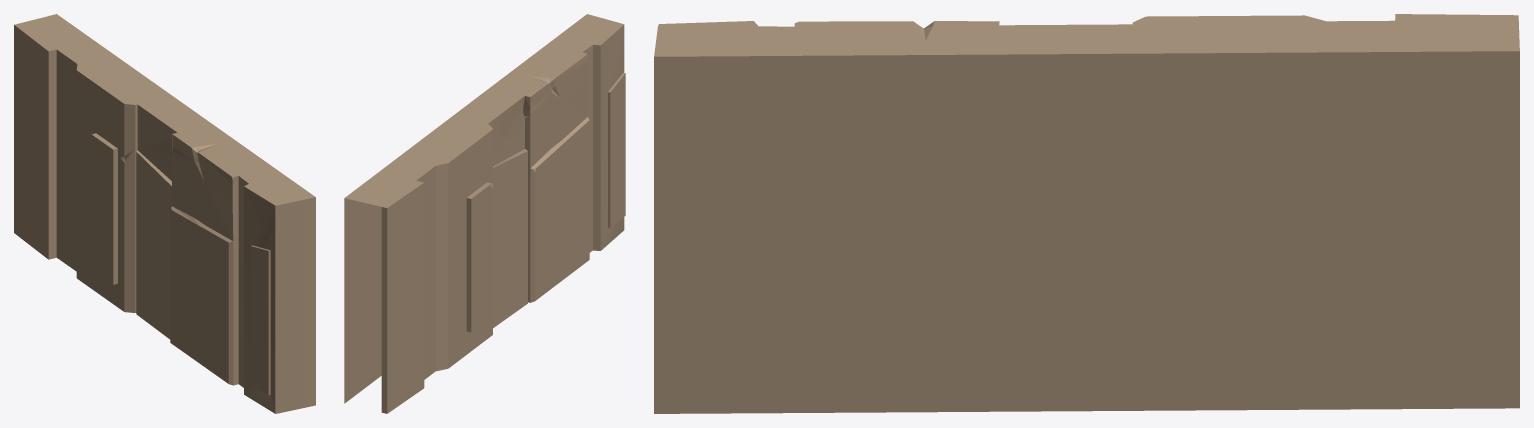
The model's file is wall1.FBX.
3 views of the same model, side by side, from view 1: azimuth 30°, elevation 25°; view 2: azimuth 150°, elevation 25°; view 3: azimuth 270°, elevation 25° (orthographic). The views are drawn at different scales.
Visible parts, largest first — view 1: Object580; view 2: Object580; view 3: Object580.
Part boxes in pixels (x1,y1,x2,y2): Object580: (14, 14, 315, 413); Object580: (344, 14, 625, 413); Object580: (654, 14, 1519, 413).
Size of the model in its own units: 14.33 by 53.3 by 117.
